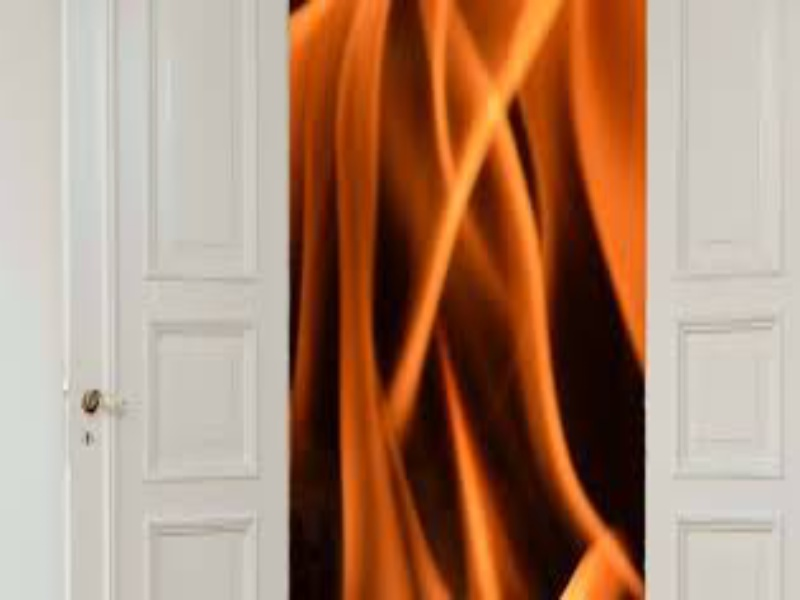fire: (288, 2, 648, 600)
